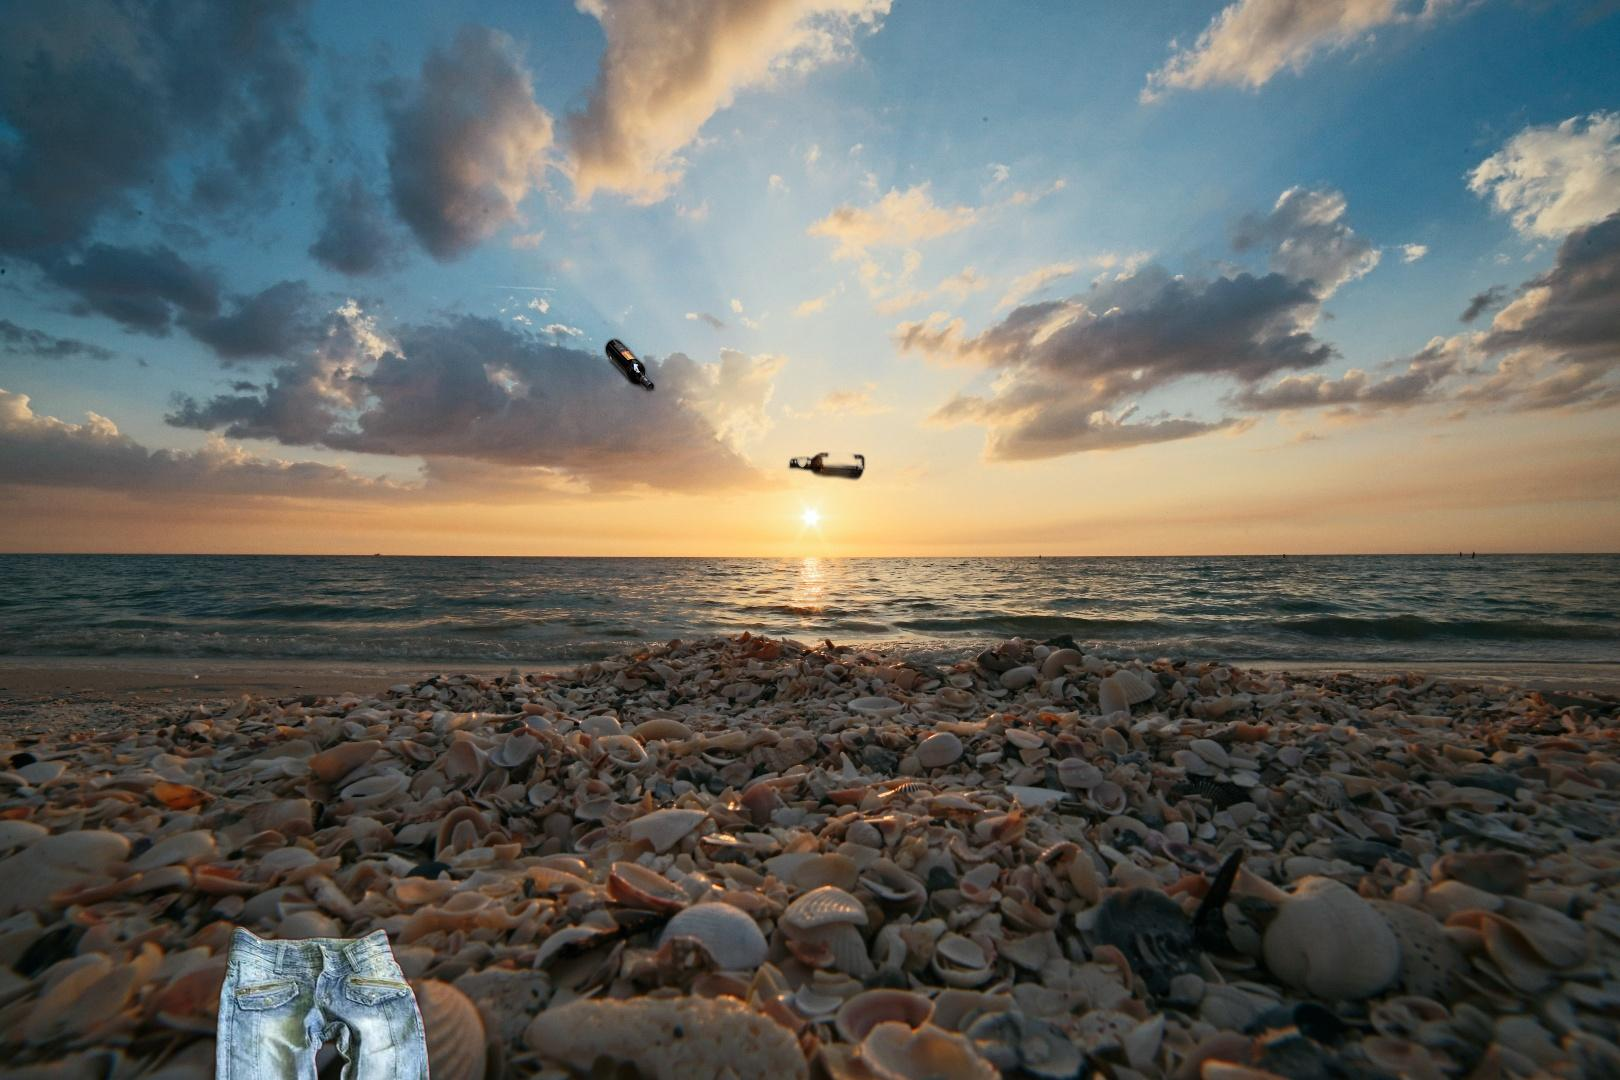biological: (77, 1034, 353, 1080)
clothes: (211, 921, 454, 1080)
glass: (600, 333, 870, 769)
penholder: (1311, 914, 1620, 1080)
